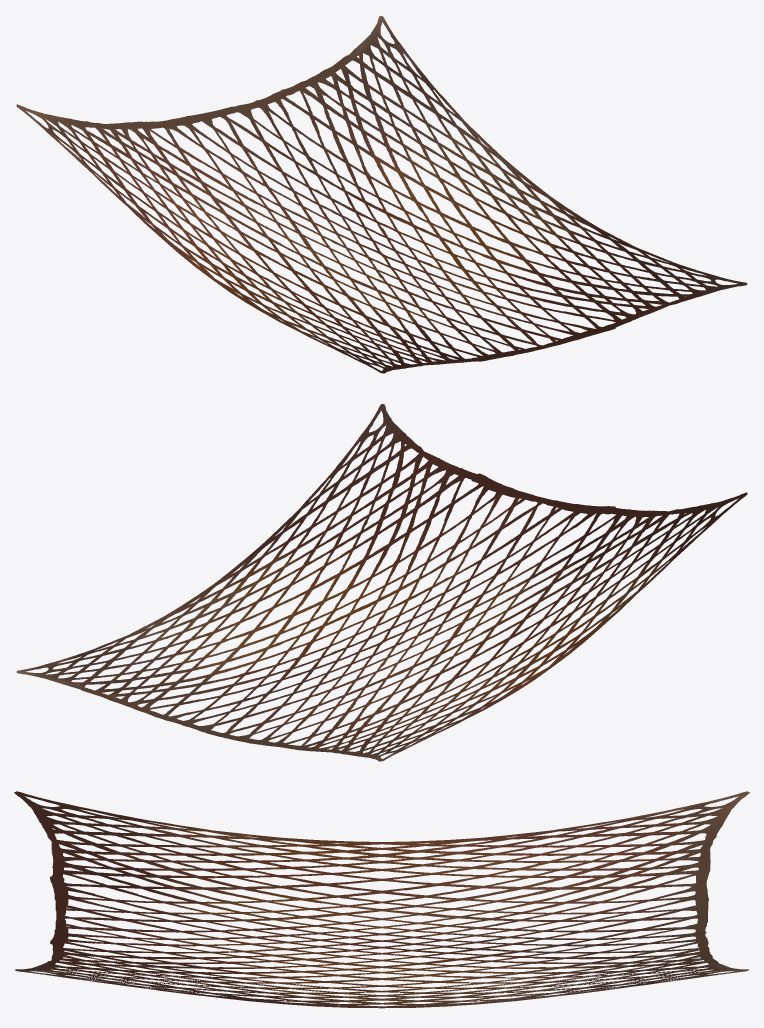
File: Cloth.fbx
3 renders of one model, top to bottom at view 1: azimuth 30°, elevation 25°; view 2: azimuth 150°, elevation 25°; view 3: azimuth 270°, elevation 25°, orthographic.
Visible parts, largest first — view 1: Plane; view 2: Plane; view 3: Plane.
Boxes of the visible parts, left/top/right/bottom form: Plane: left=16, top=16, right=747, bottom=373; Plane: left=16, top=404, right=747, bottom=761; Plane: left=14, top=791, right=749, bottom=1008.
Bounding box in the file's own units: 556 × 88.13 × 960.
Materials: 1 (1 with a texture image).
